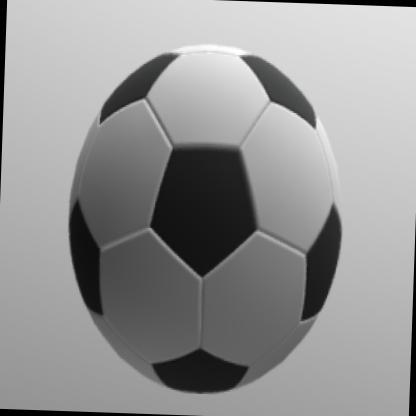ball: (63, 37, 350, 397)
